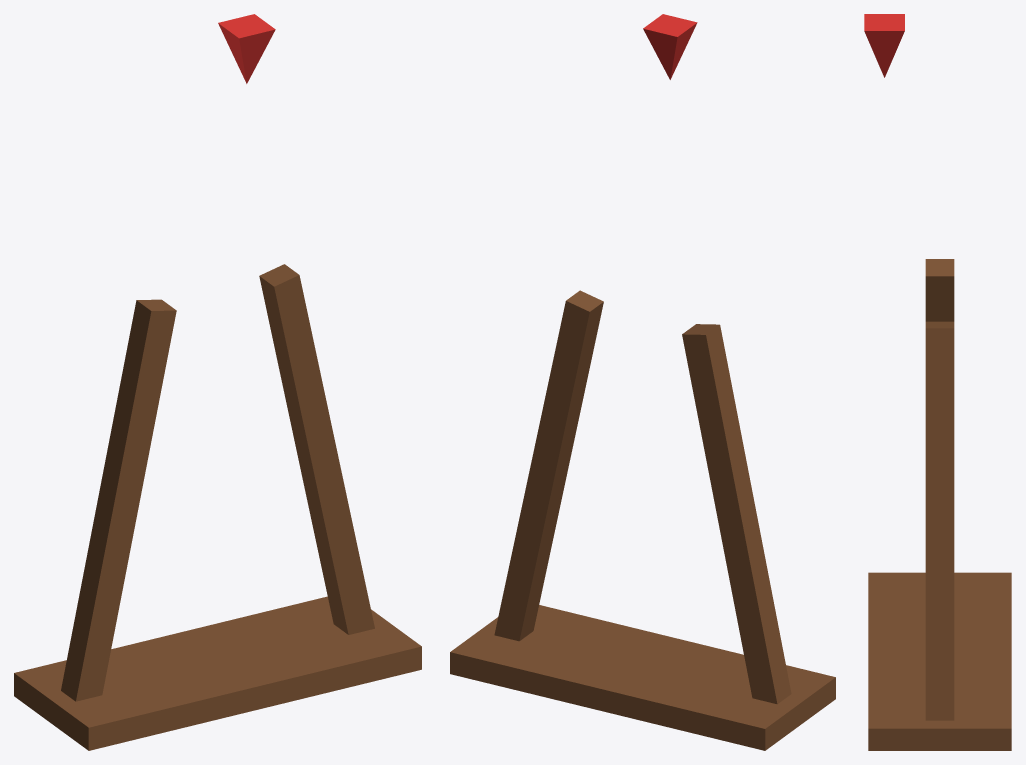
The model's file is wheel_stand.glb.
The picture shows the model from 3 angles, left to right: view 1: azimuth 30°, elevation 25°; view 2: azimuth 150°, elevation 25°; view 3: azimuth 270°, elevation 25°; orthographic projection. The views are drawn at different scales.
Visible parts, largest first — view 1: wheel_stand; view 2: wheel_stand; view 3: wheel_stand.
Part boxes in pixels (x1=…): wheel_stand: x1=14, y1=14, x2=421, y2=750; wheel_stand: x1=450, y1=14, x2=835, y2=750; wheel_stand: x1=864, y1=14, x2=1011, y2=750.
Size of the model in its own units: 1.8 by 3.54 by 0.719.
